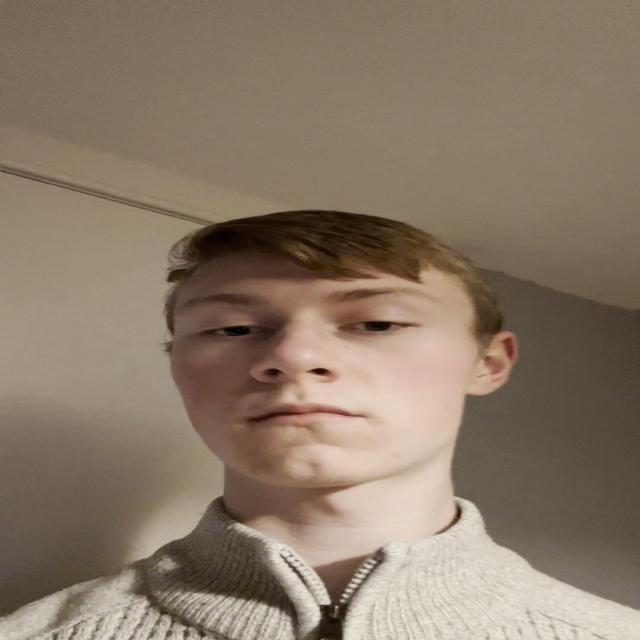no-helmet: (160, 206, 503, 520)
